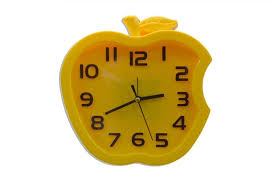alarm_clock: (57, 12, 210, 167), (62, 12, 210, 167)
